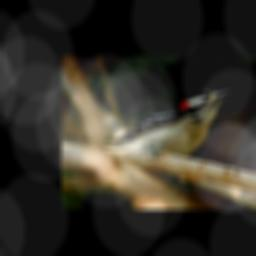Woodpecker: (84, 85, 233, 162)
